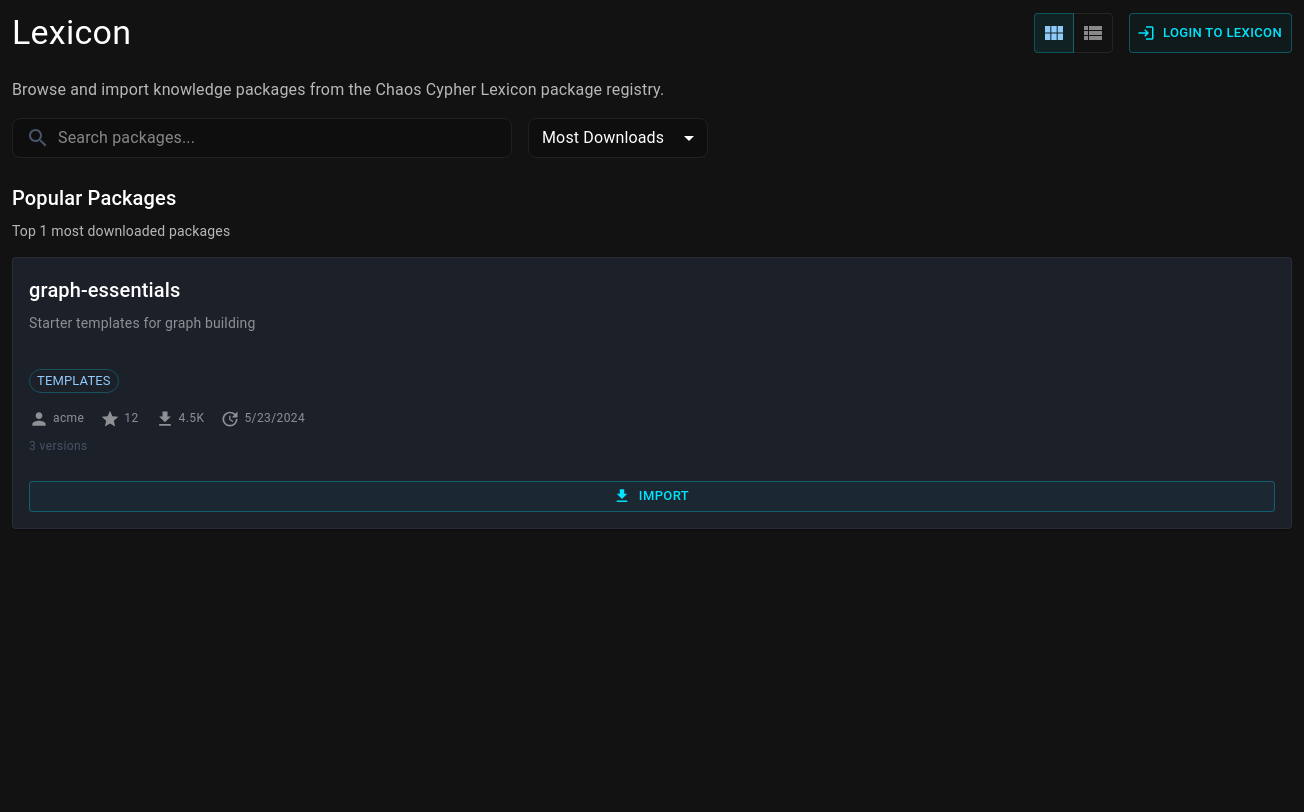
it: LexiconPage › imports a package via the import mutation and shows a success snackbar
Expected: the text "graph-essentials" is shown, [29, 278, 181, 302]
// Only one package → one Import button.
Click the button "Import" at (652, 496), box [29, 481, 1275, 512]
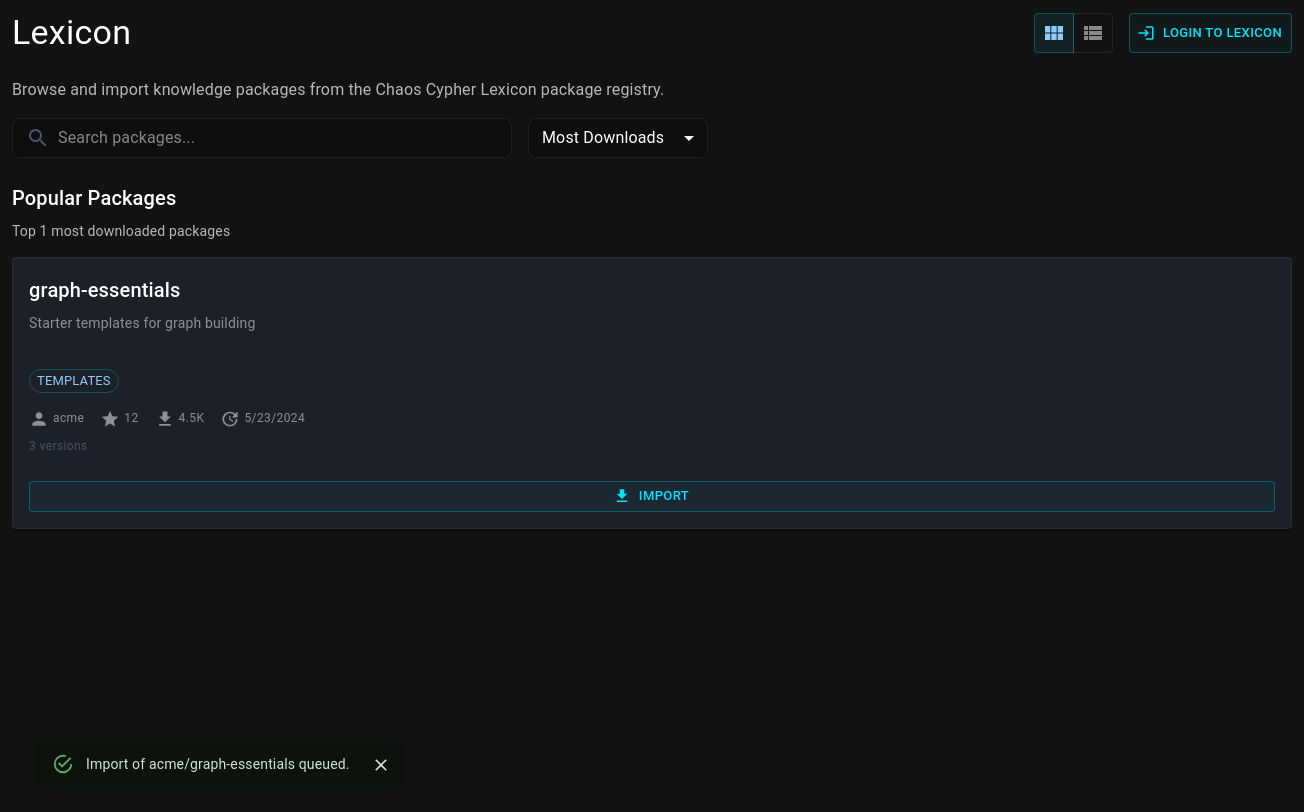
Expected: the text "Import of acme/graph-essentials queued." is shown, [86, 756, 350, 772]
